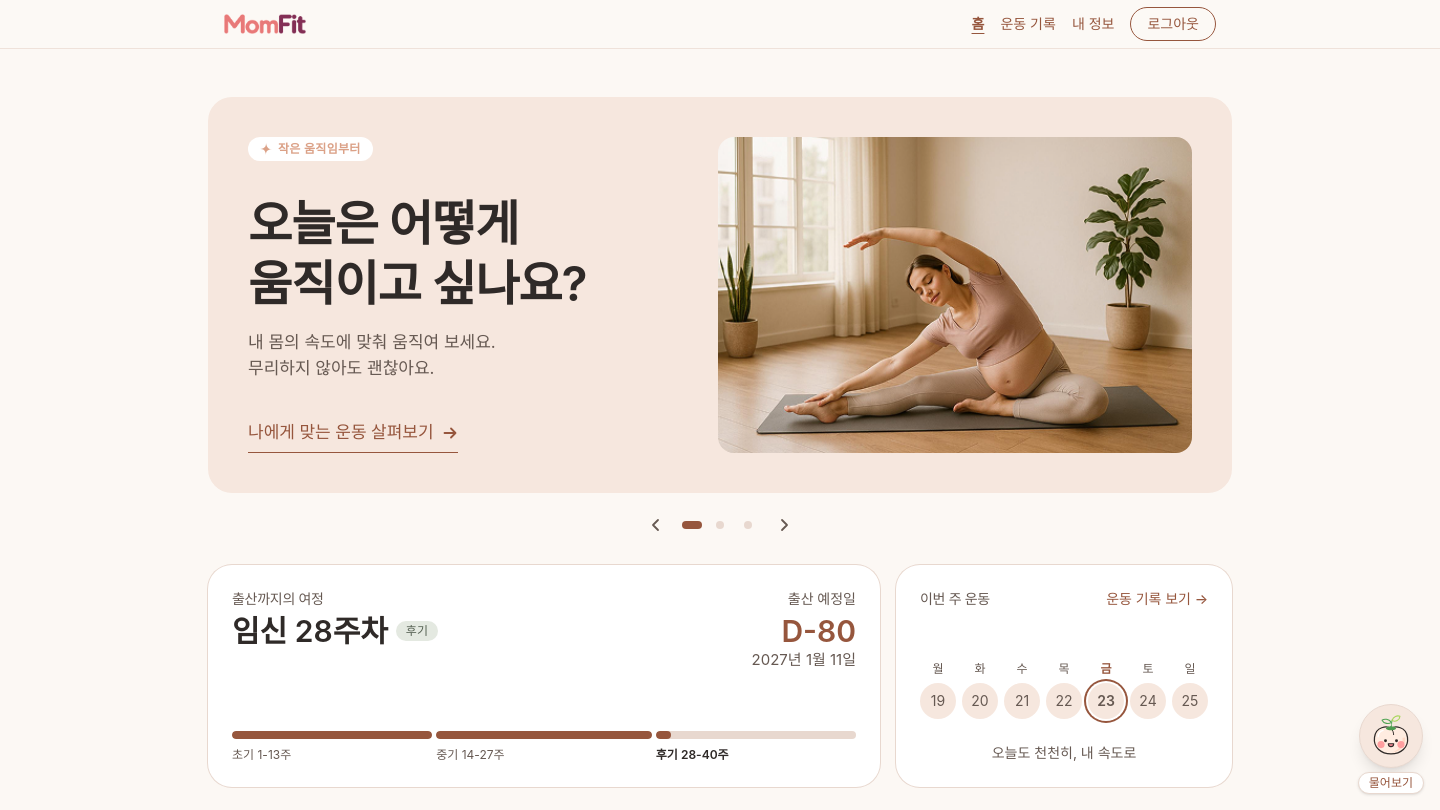
Test case: SiteHeader › 로그아웃 확인 모달 › 로그아웃 버튼을 누르면 바로 로그아웃하지 않고 확인을 받는다
Click the button "로그아웃".
click(1173, 24)  # box [1130,7,1216,41]
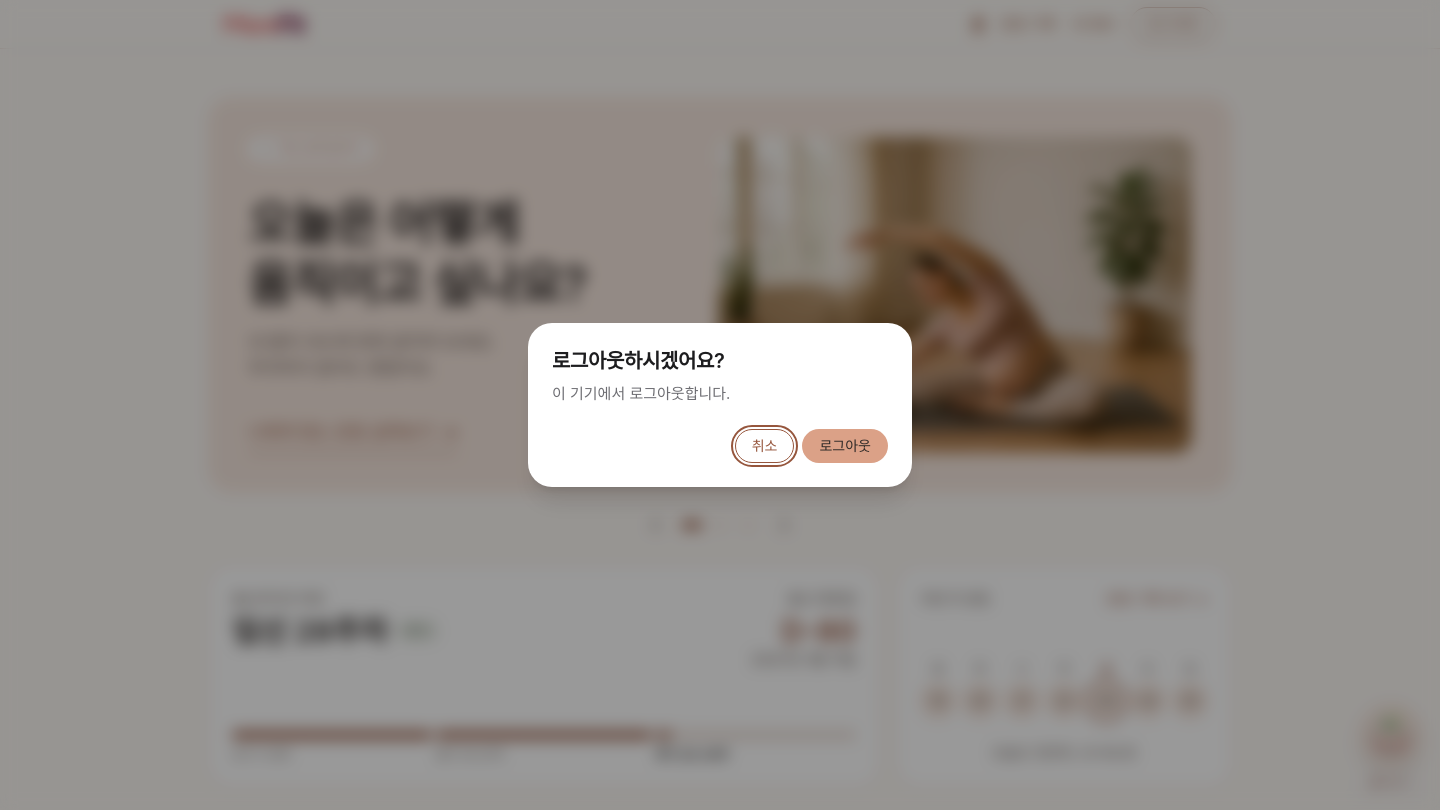
Expected: the dialog "로그아웃하시겠어요?" shows "이 기기에서 로그아웃합니다.", [552,384,730,403]
